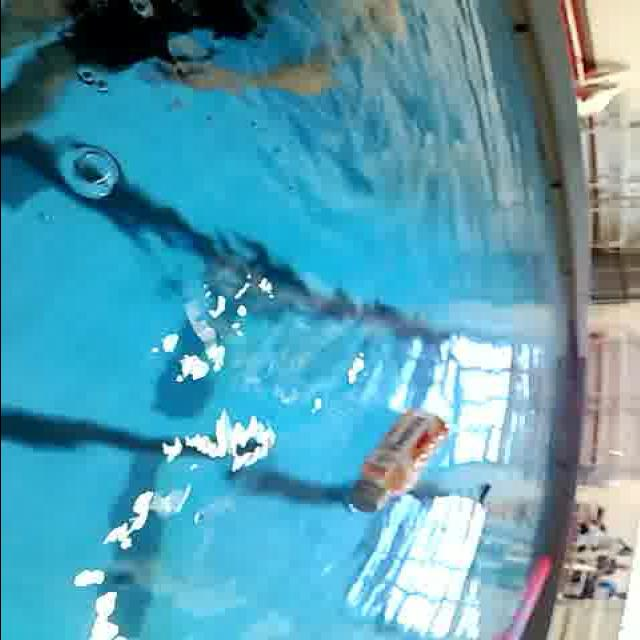Bottle: (344, 404, 454, 516)
